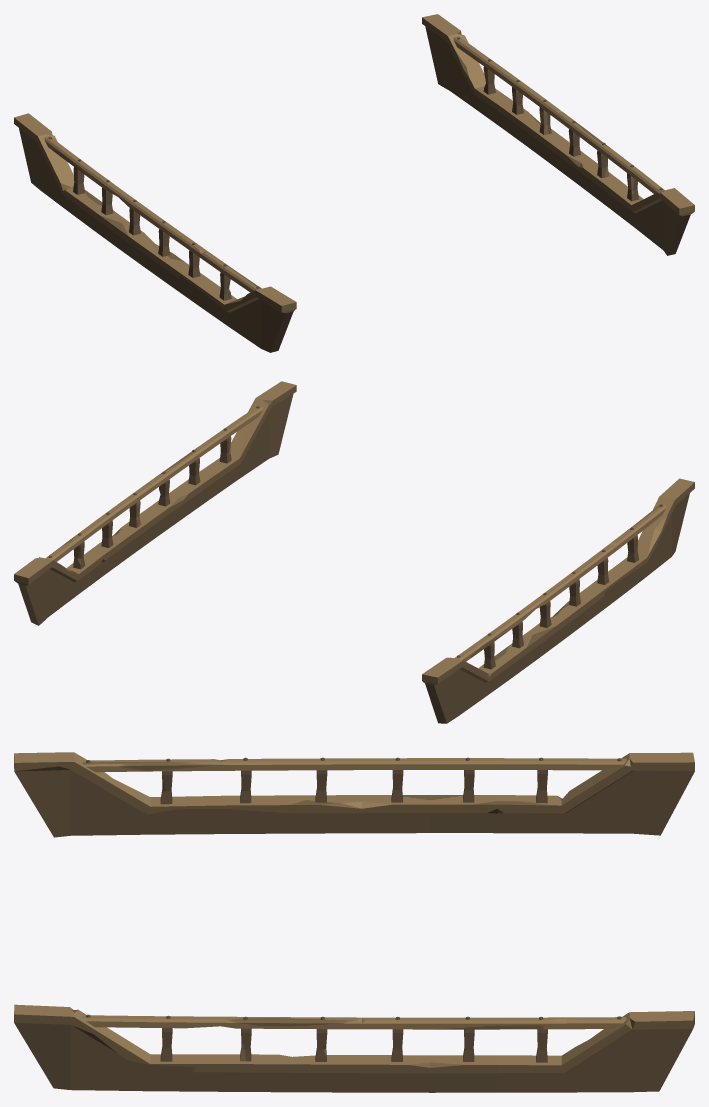
The model's file is SM_Veh_Ship_L_Middle_02.fbx.
The picture shows the model from 3 angles, top to bottom: view 1: azimuth 30°, elevation 25°; view 2: azimuth 150°, elevation 25°; view 3: azimuth 270°, elevation 25°; orthographic projection. The views are drawn at different scales.
Parts seen in each view (by area): view 1: SM_Veh_Ship_L_Middle_02; view 2: SM_Veh_Ship_L_Middle_02; view 3: SM_Veh_Ship_L_Middle_02.
Boxes of the visible parts, x1,y1,x2,y2 form: SM_Veh_Ship_L_Middle_02: (14,14,694,352); SM_Veh_Ship_L_Middle_02: (14,381,694,723); SM_Veh_Ship_L_Middle_02: (14,752,694,1092).
Size of the model in its own units: 1027 by 138 by 1095.
